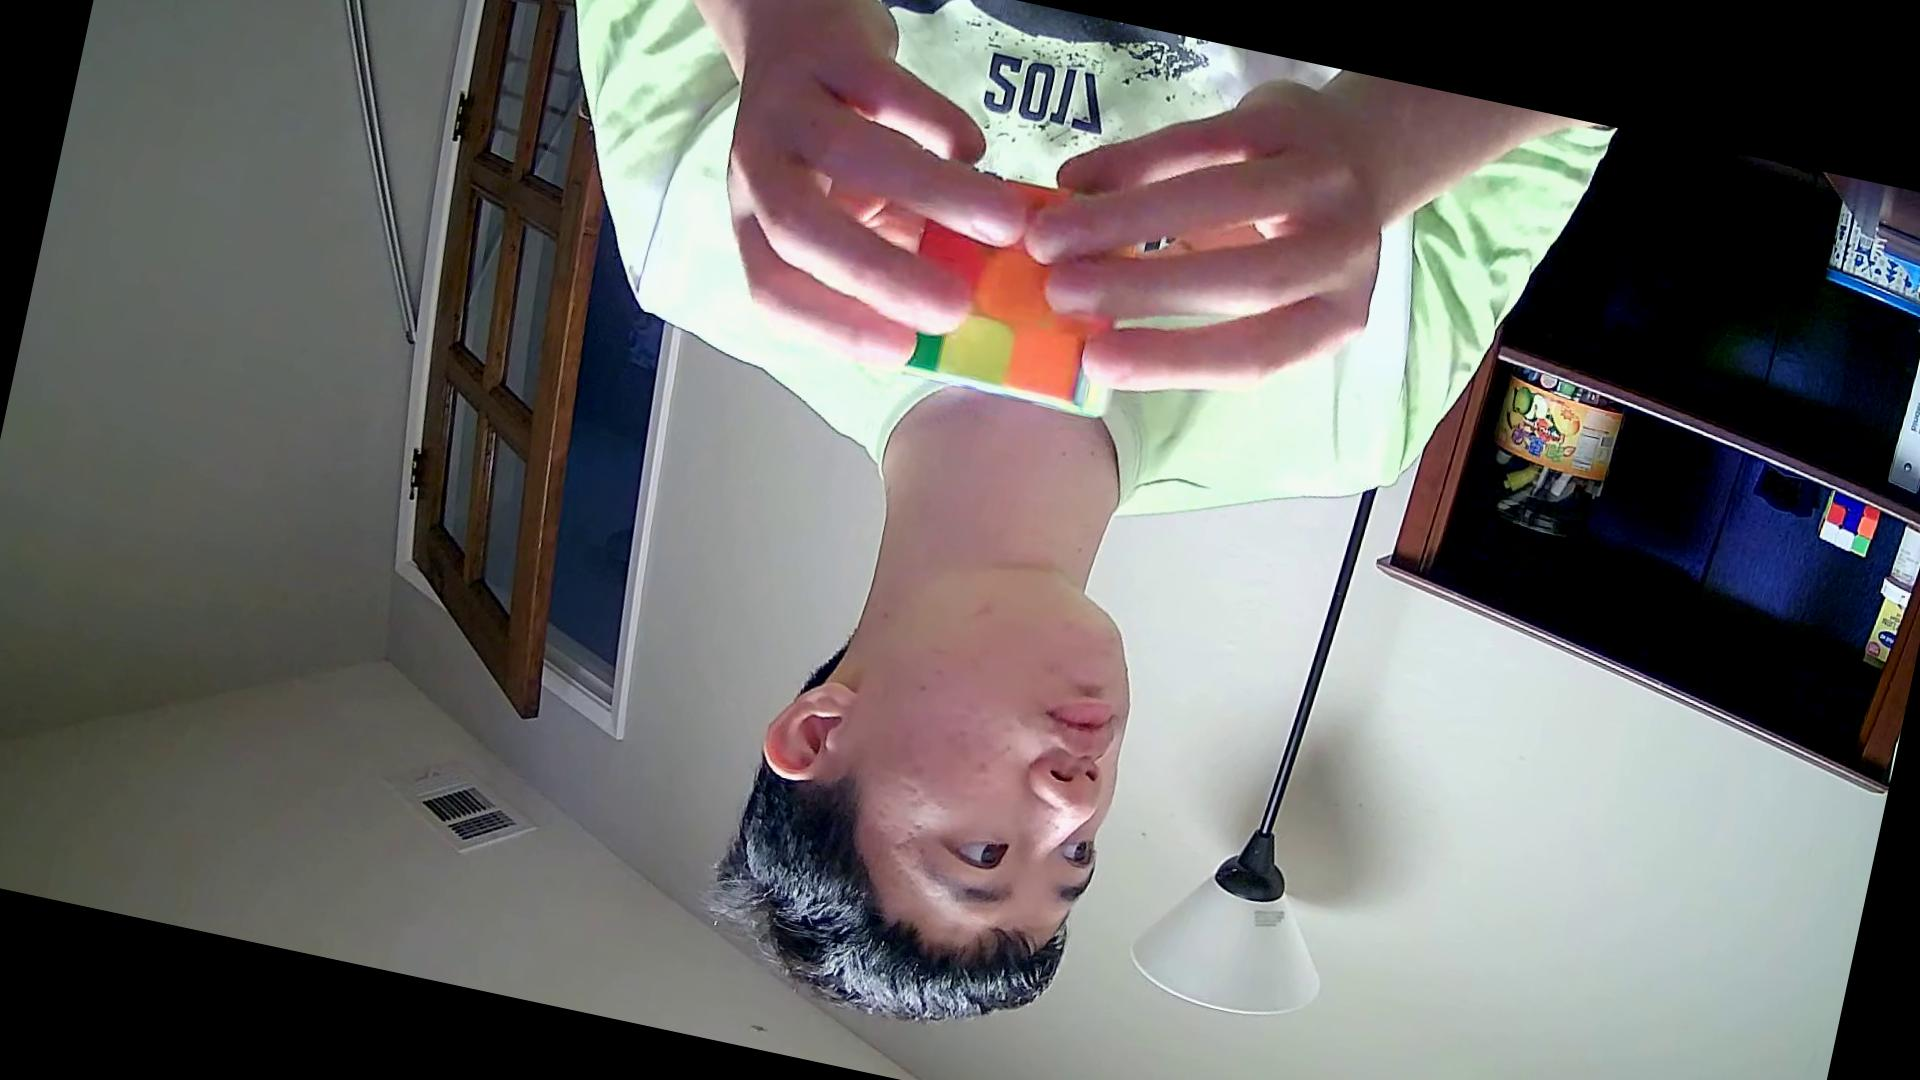Rubiks-Cube: (860, 150, 1158, 430)
